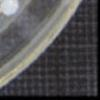white: (0, 0, 20, 17)
